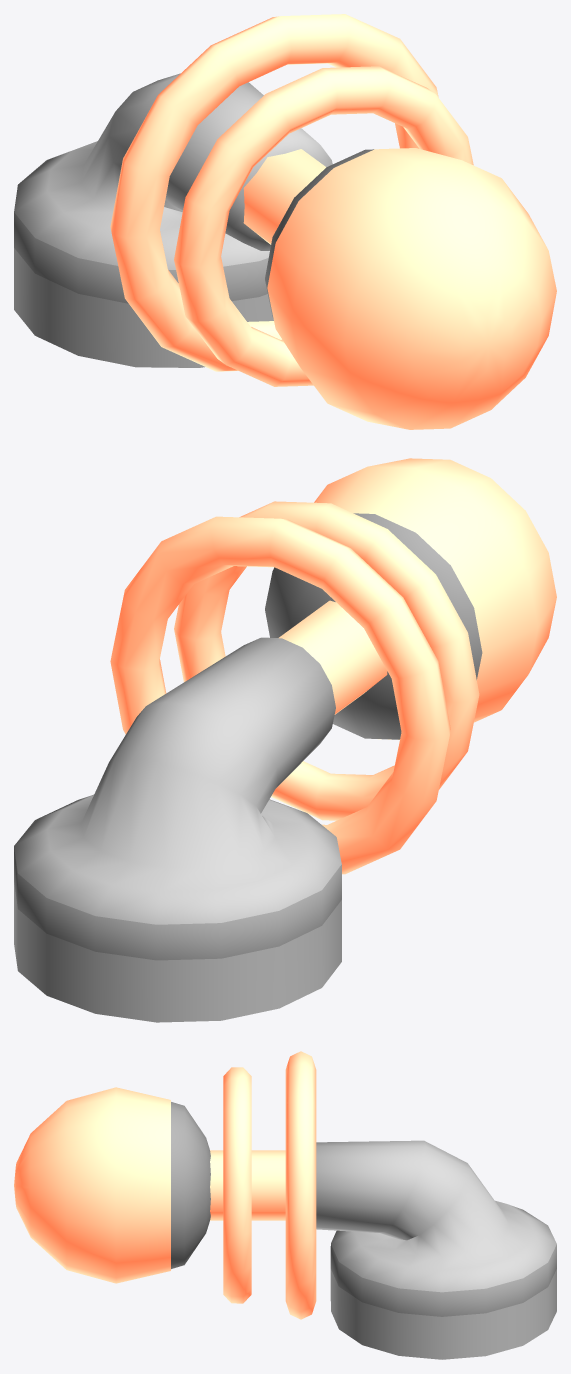
Rendered from mesh_Factory_Hockey_GoalTrap.fbx.
3 views of the same model, one above another, from view 1: azimuth 30°, elevation 25°; view 2: azimuth 150°, elevation 25°; view 3: azimuth 270°, elevation 25° (orthographic). The views are drawn at different scales.
Visible parts, largest first — view 1: mesh_Factory_Hockey_GoalTrap; view 2: mesh_Factory_Hockey_GoalTrap; view 3: mesh_Factory_Hockey_GoalTrap.
Boxes of the visible parts, x1,y1,x2,y2 form: mesh_Factory_Hockey_GoalTrap: (14, 14, 556, 429); mesh_Factory_Hockey_GoalTrap: (14, 458, 556, 1022); mesh_Factory_Hockey_GoalTrap: (14, 1051, 556, 1359).
Size of the model in its own units: 0.9757 by 0.9919 by 1.97.
